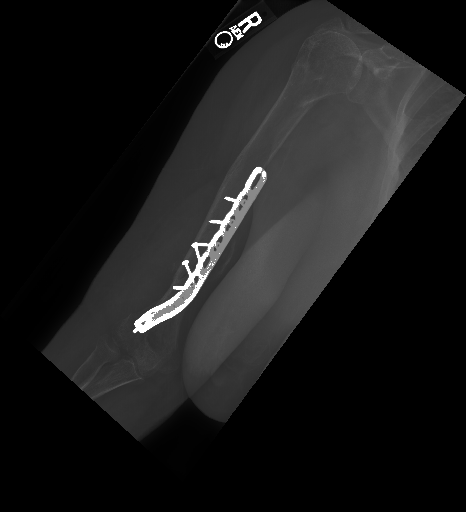implant: (133, 164, 268, 335)
